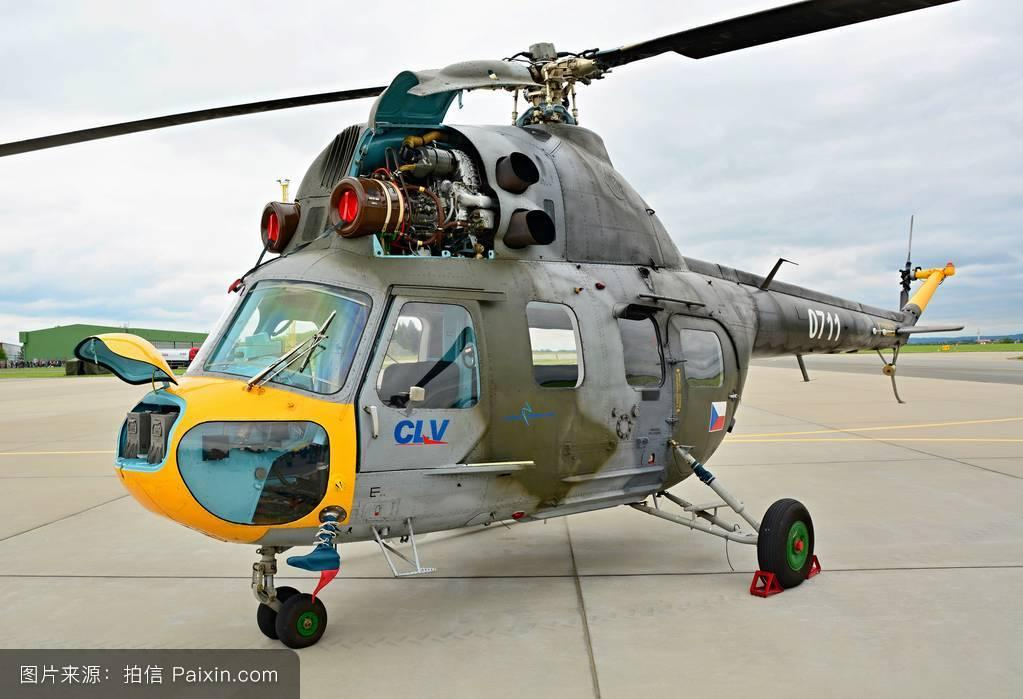airplane: (5, 1, 976, 644)
